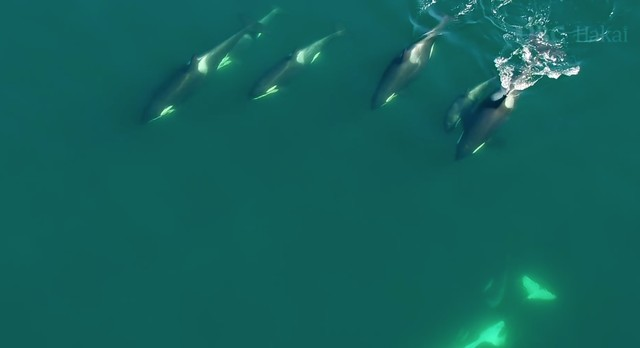whale: (129, 1, 297, 129), (447, 29, 569, 175), (363, 3, 470, 120), (243, 21, 357, 111)
